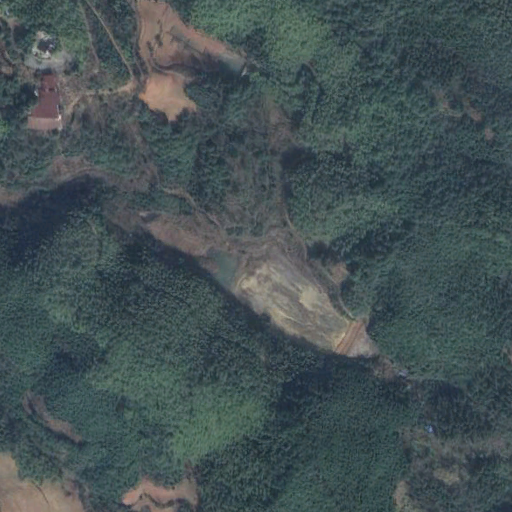tp: (131, 204, 381, 361)
